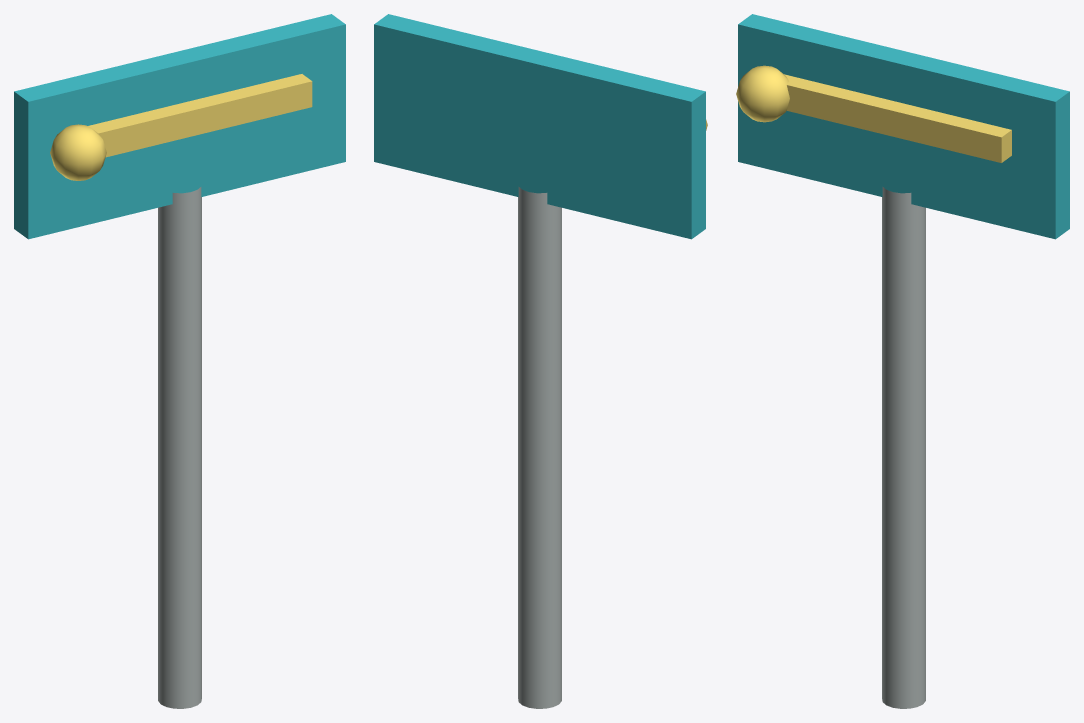
Rendered from signal-sign.glb.
3 renders of one model, left to right at view 1: azimuth 30°, elevation 25°; view 2: azimuth 150°, elevation 25°; view 3: azimuth 330°, elevation 25°, orthographic.
Visible parts, largest first — view 1: sign-board, round-pole, route-bar, route-dot; view 2: sign-board, round-pole; view 3: sign-board, round-pole, route-bar, route-dot.
Part boxes in pixels (left/top/right/bottom): sign-board: left=14, top=14, right=345, bottom=239; round-pole: left=158, top=187, right=201, bottom=708; route-bar: left=88, top=74, right=312, bottom=157; route-dot: left=50, top=124, right=106, bottom=180; sign-board: left=374, top=14, right=705, bottom=239; round-pole: left=518, top=187, right=561, bottom=708; sign-board: left=738, top=14, right=1069, bottom=239; round-pole: left=882, top=187, right=925, bottom=708; route-bar: left=784, top=74, right=1011, bottom=162; route-dot: left=736, top=65, right=789, bottom=122.
Size of the model in its own units: 0.58 by 1.12 by 0.14.
